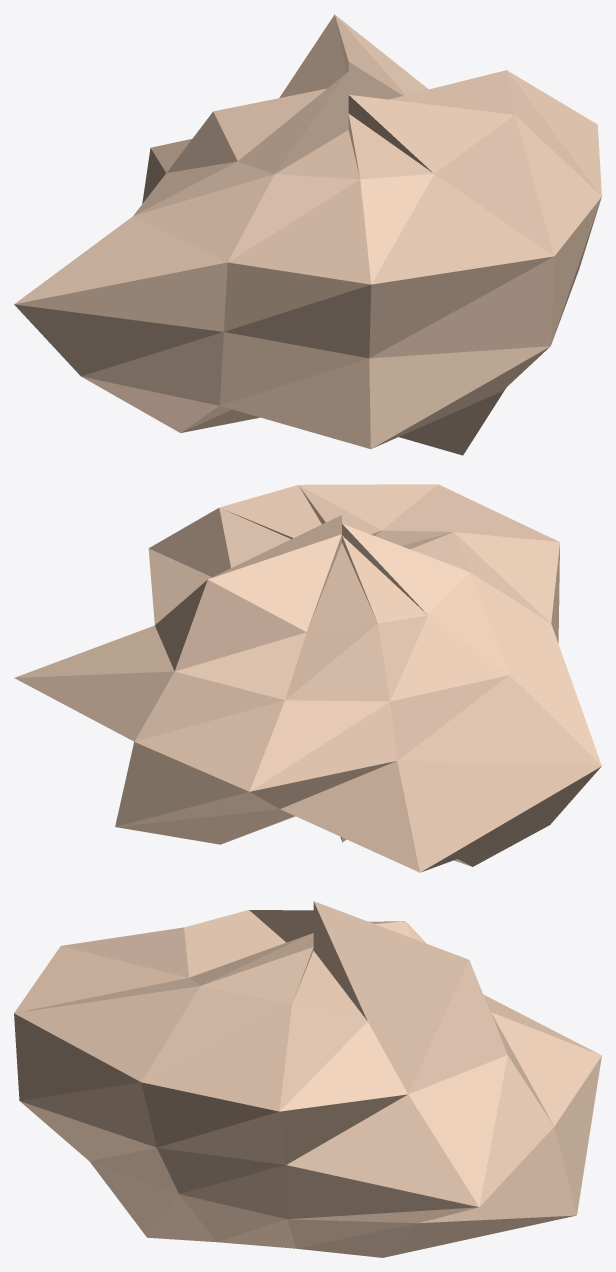
File: rock_003.obj
3 views of the same model, one above another, from view 1: azimuth 30°, elevation 25°; view 2: azimuth 150°, elevation 25°; view 3: azimuth 270°, elevation 25° (orthographic). The views are drawn at different scales.
Bounding box in the file's own units: 1.5 × 0.8823 × 1.35.
